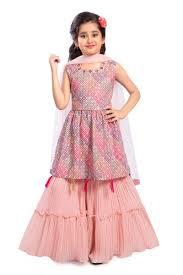Human: (39, 4, 160, 275)
